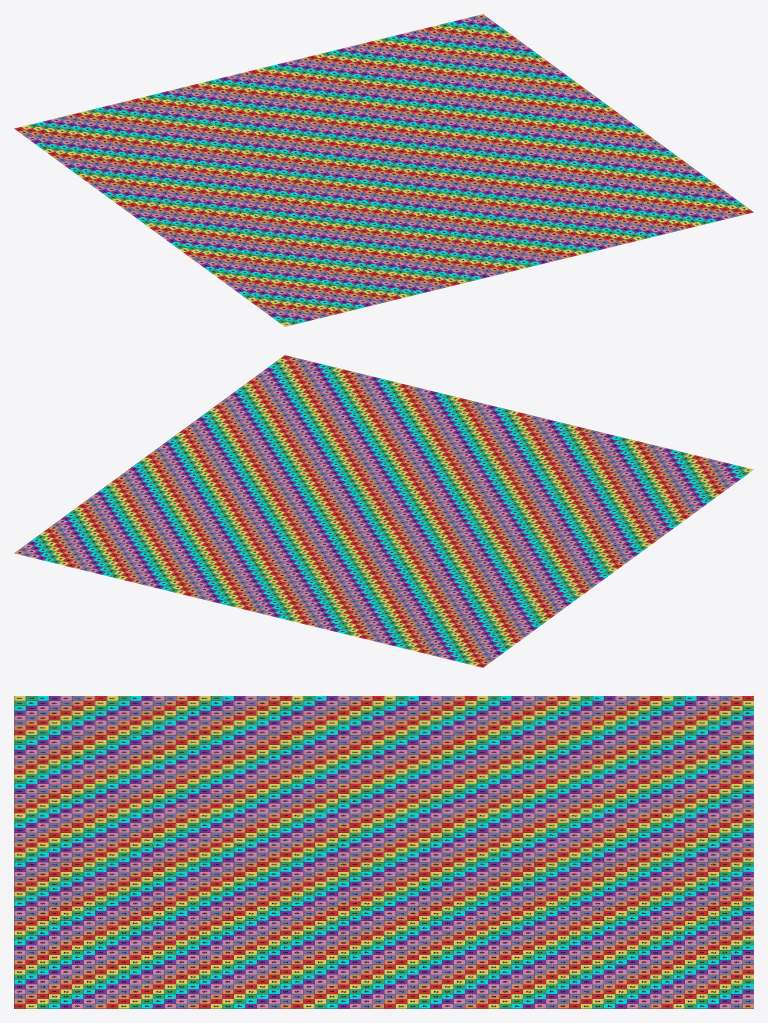
The model's file is watertess_edge.fbx.
The picture shows the model from 3 angles, top to bottom: view 1: azimuth 30°, elevation 25°; view 2: azimuth 150°, elevation 25°; view 3: azimuth 270°, elevation 25°; orthographic projection. The views are drawn at different scales.
Visible parts, largest first — view 1: Edge; view 2: Edge; view 3: Edge.
Boxes of the visible parts, <box> form: Edge: <box>14,14,753,326</box>; Edge: <box>14,355,753,667</box>; Edge: <box>14,696,753,1008</box>.
Bounding box in the file's own units: 512 × 8.34e-05 × 512.
